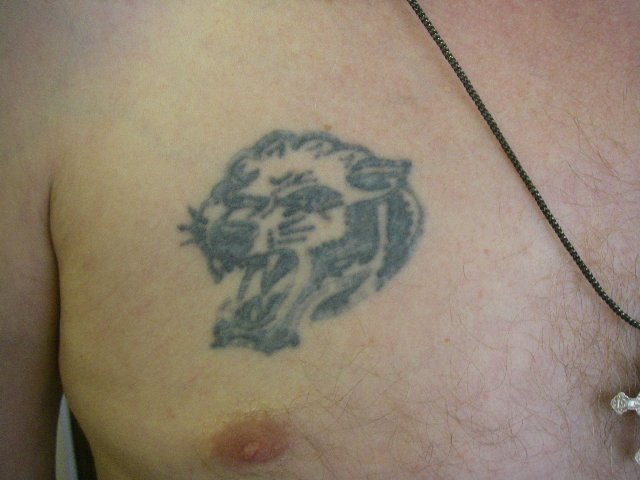tatu5_tigr: (153, 101, 470, 371)
